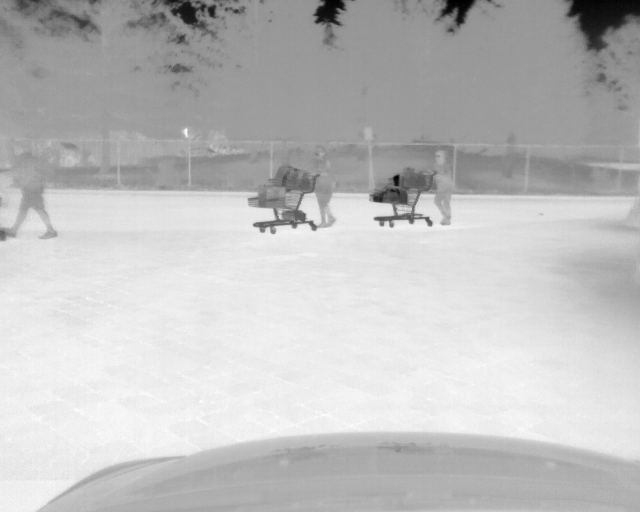people: (7, 131, 58, 240), (308, 145, 338, 230), (427, 147, 456, 227)
